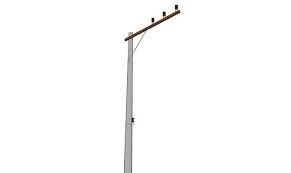light_pole: (124, 29, 140, 173)
